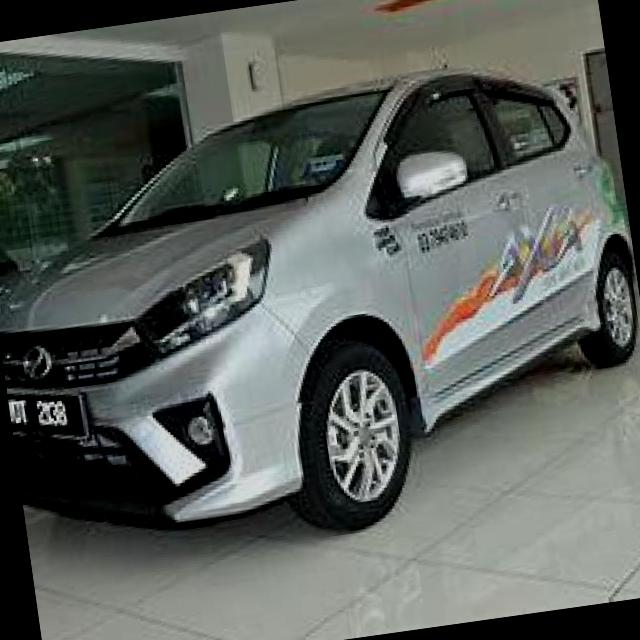PeroduaAxia: (0, 42, 640, 575)
